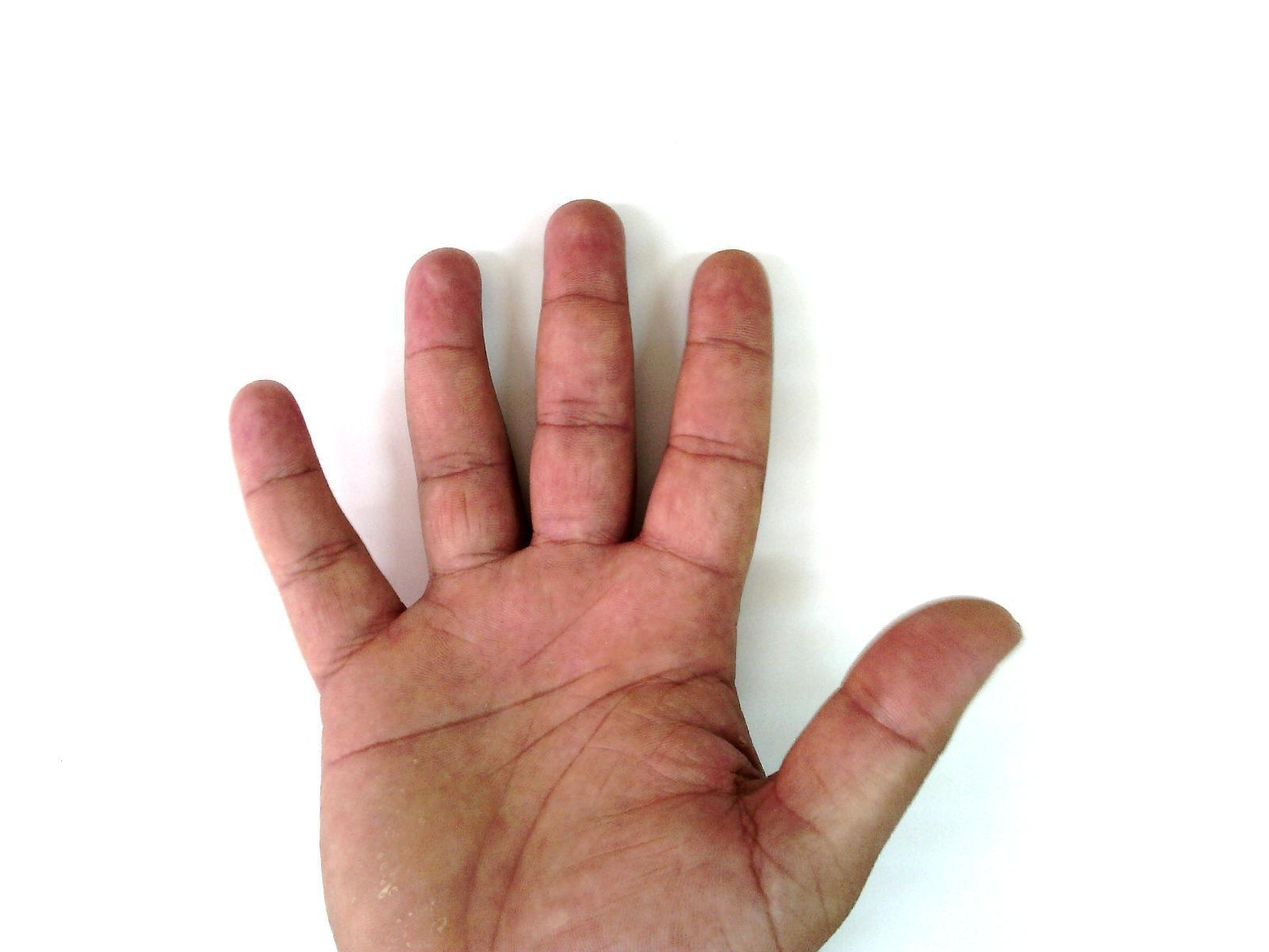open_palm: (226, 198, 1026, 952)
